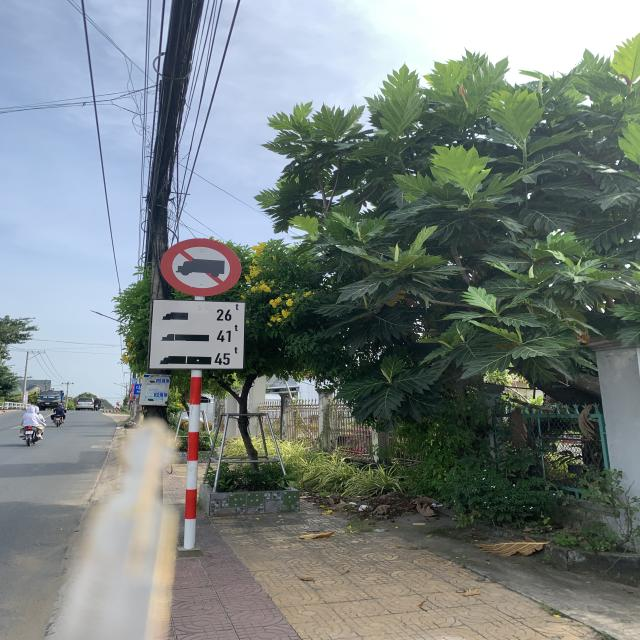Cam_Xe_Tai: (158, 238, 244, 298)
